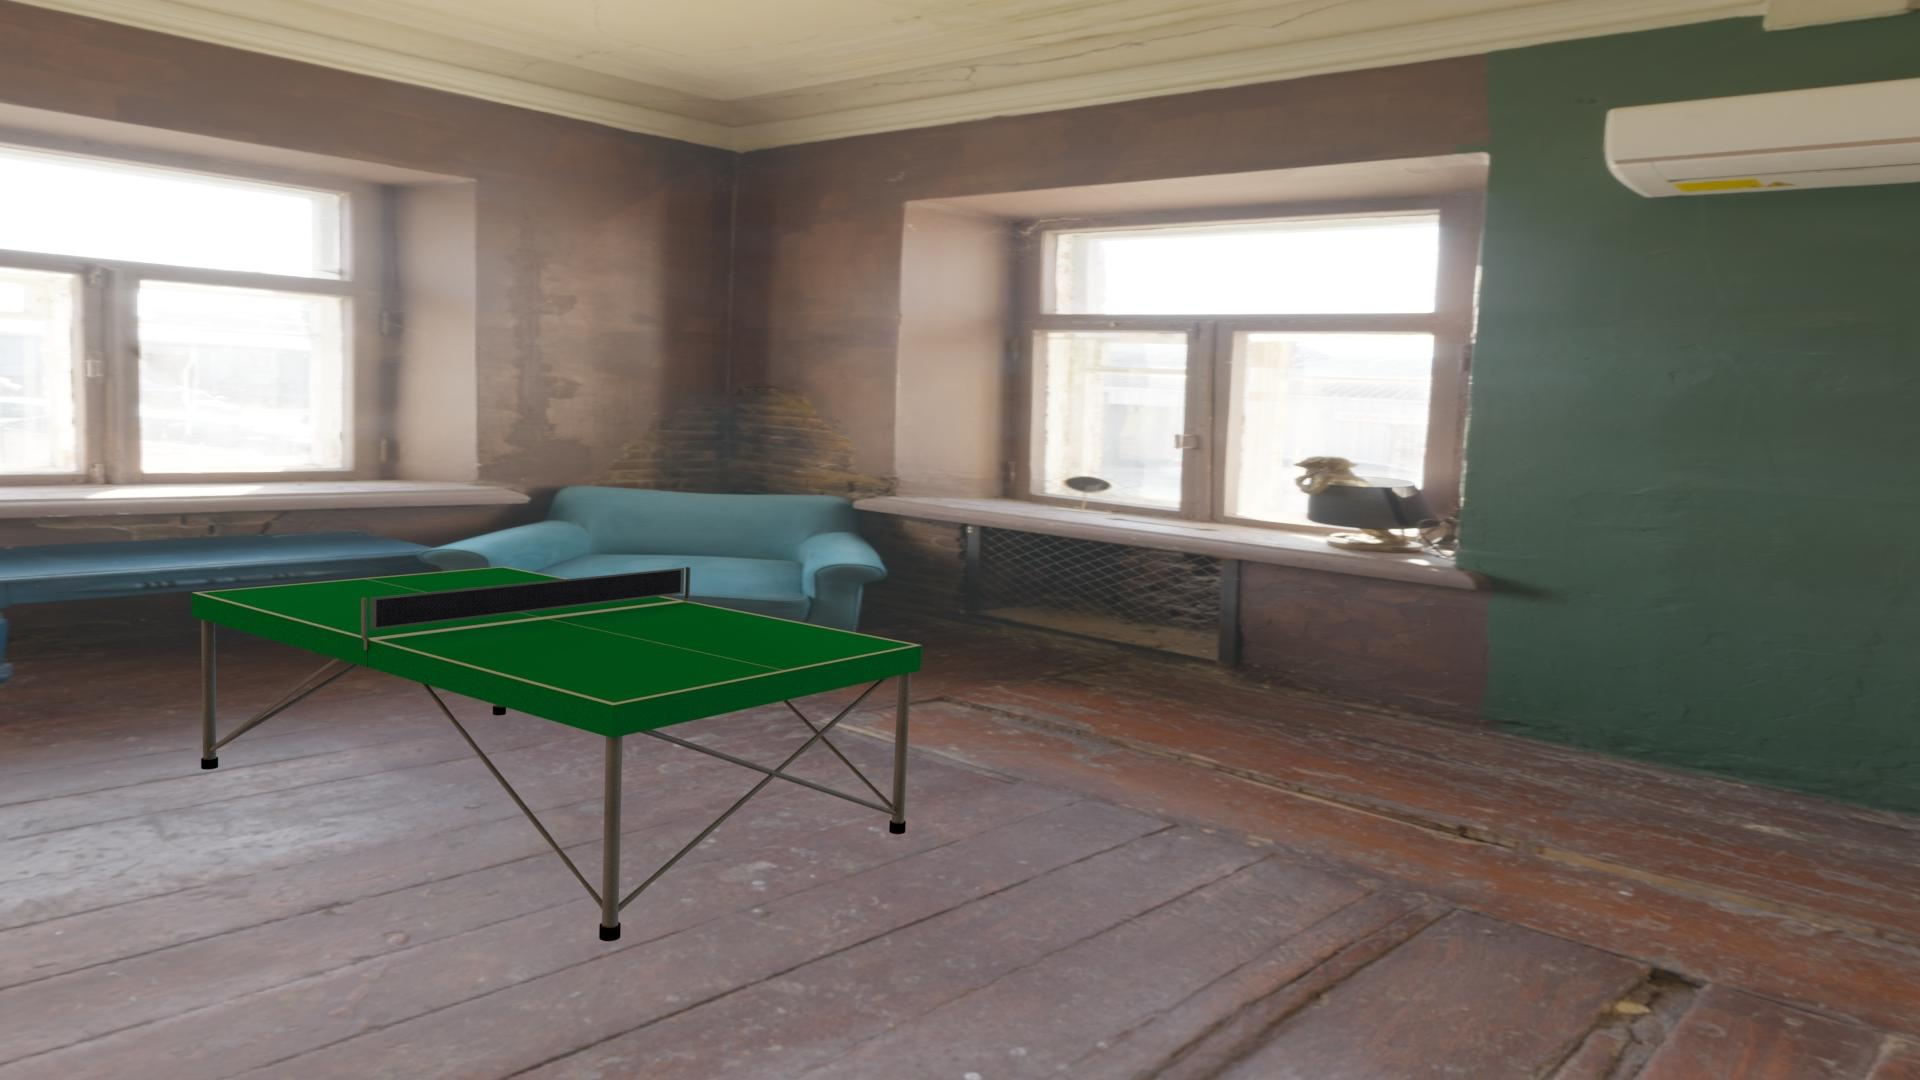table: (199, 567, 915, 703)
